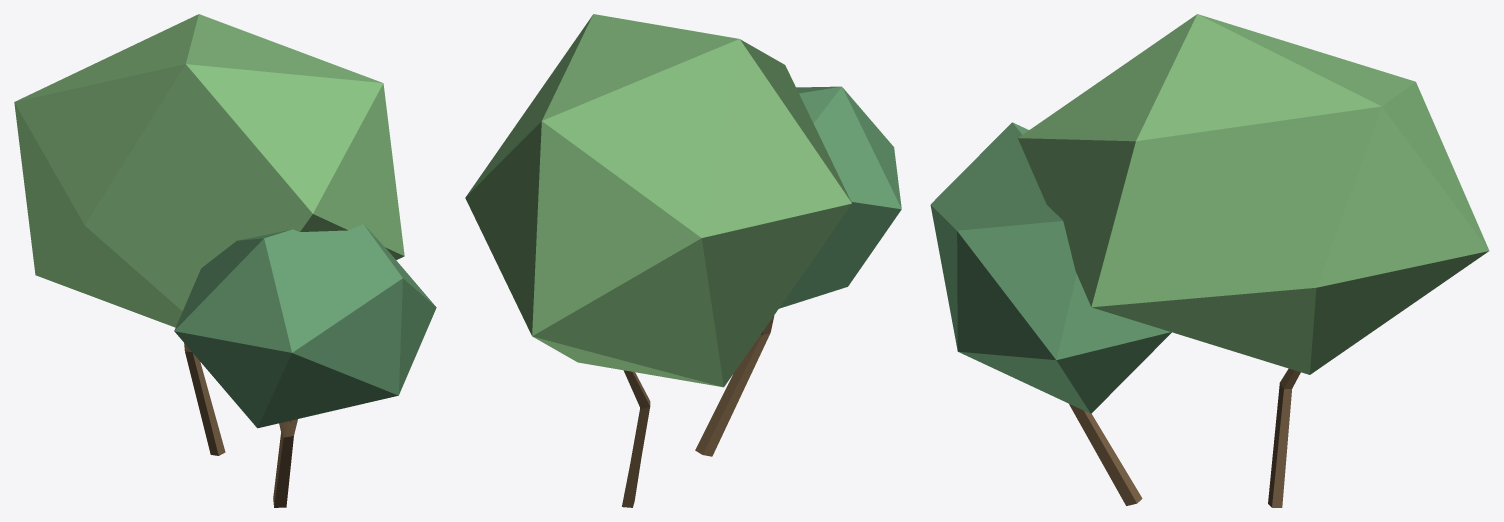
Rendered from bush_5.fbx.
3 views of the same model, side by side, from view 1: azimuth 30°, elevation 25°; view 2: azimuth 150°, elevation 25°; view 3: azimuth 270°, elevation 25° (orthographic). The views are drawn at different scales.
Parts seen in each view (by area): view 1: shrub8, shrub9, bush_trunk4, bush_trunk1; view 2: shrub8, shrub9, bush_trunk1, bush_trunk4; view 3: shrub8, shrub9, bush_trunk4, bush_trunk1.
Part boxes in pixels (left/top/right/bottom): shrub8: left=14, top=14, right=404, bottom=327; shrub9: left=174, top=224, right=436, bottom=428; bush_trunk4: left=184, top=343, right=225, bottom=455; bush_trunk1: left=273, top=419, right=297, bottom=507; shrub8: left=465, top=14, right=851, bottom=387; shrub9: left=779, top=86, right=901, bottom=308; bush_trunk1: left=695, top=315, right=774, bottom=456; bush_trunk4: left=622, top=370, right=650, bottom=507; shrub8: left=1018, top=14, right=1489, bottom=374; shrub9: left=930, top=122, right=1171, bottom=413; bush_trunk4: left=1268, top=368, right=1300, bottom=507; bush_trunk1: left=1069, top=404, right=1142, bottom=505.
Size of the model in its own units: 48.93 by 65.79 by 72.81.
